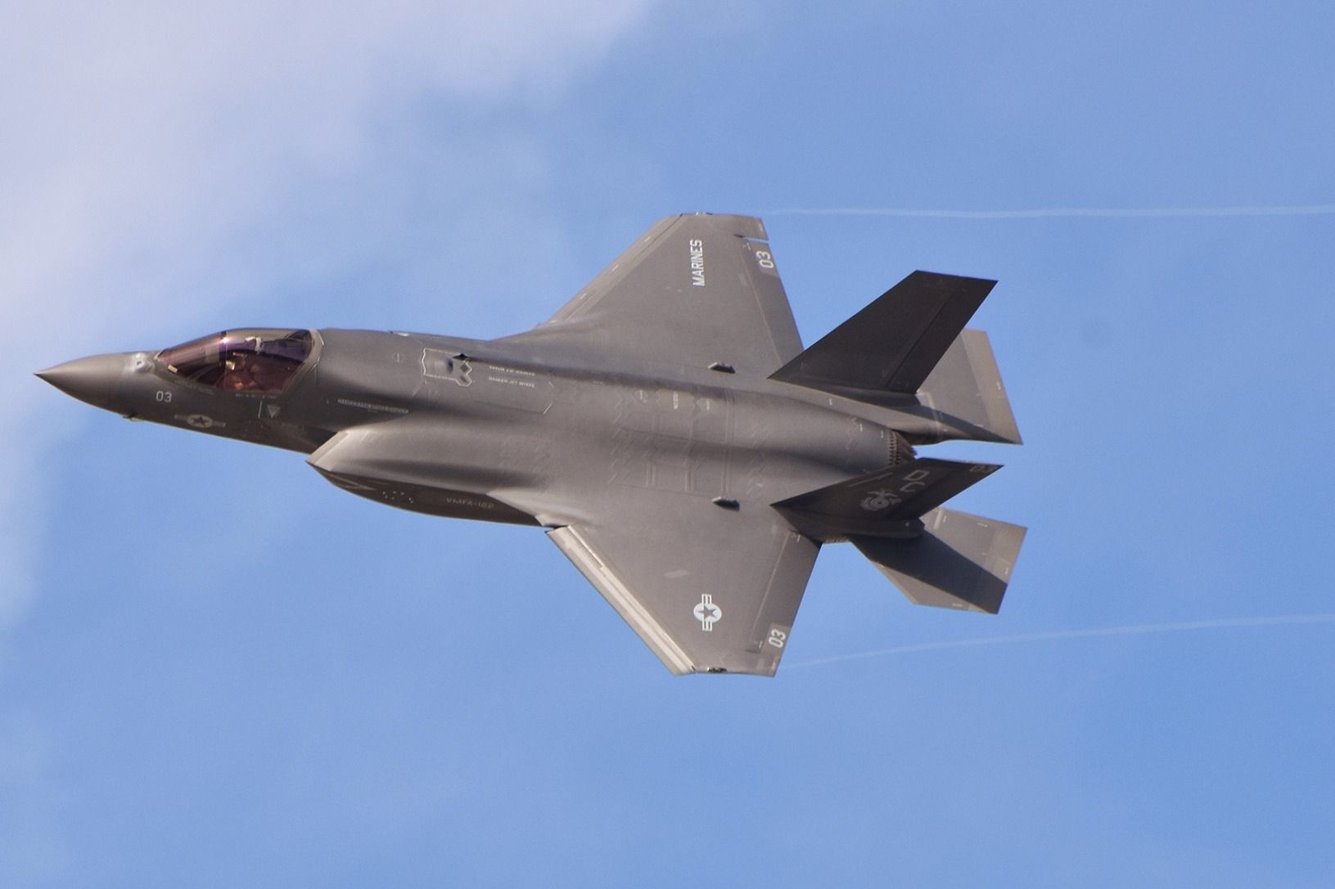F35: (28, 203, 1059, 687)
